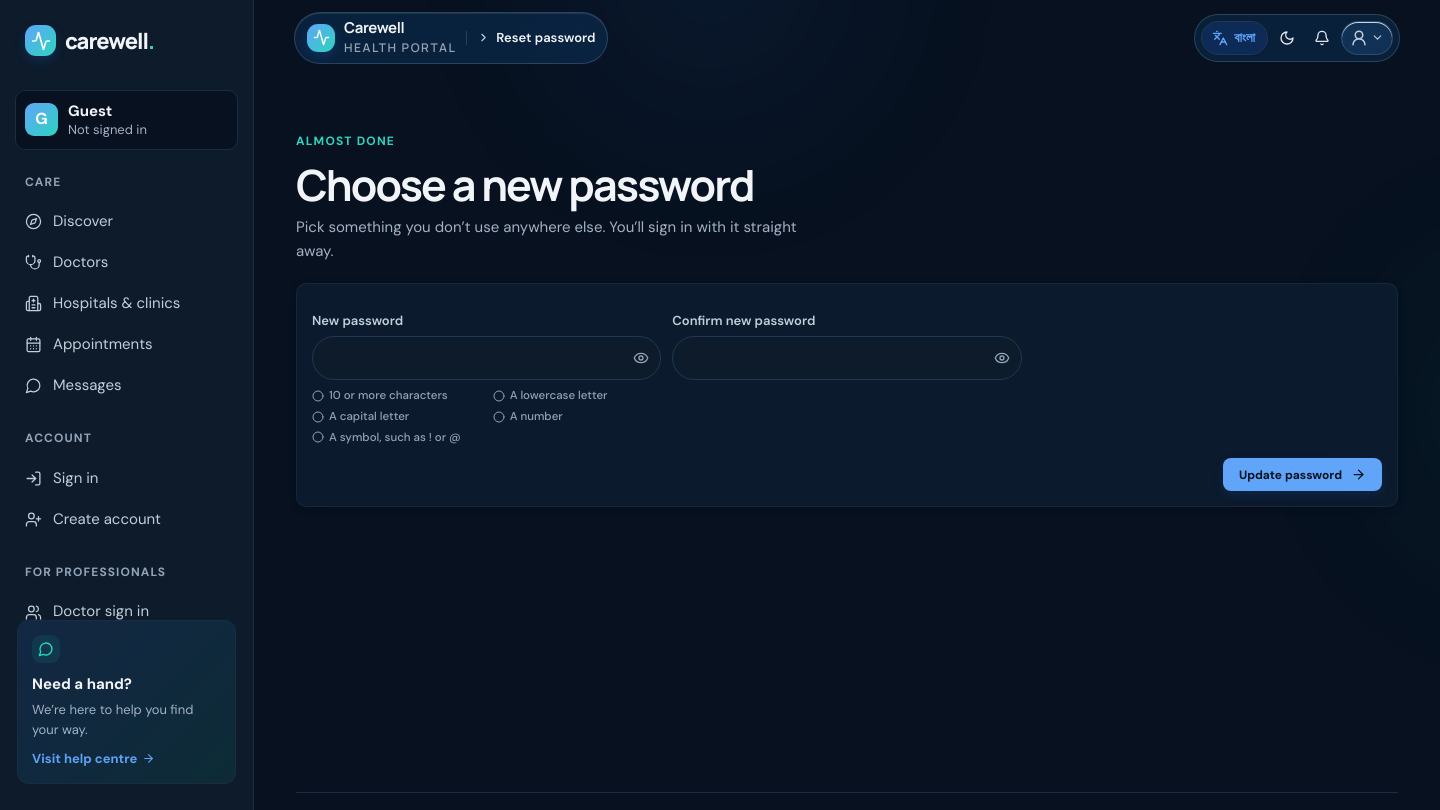
Test case: reset password screen › explains an expired link and offers a new one
This screenshot has width=1440, height=810.
Type "A-brand-new-one-1!" into the password field labelled "New password" at (487, 358), box [312,336,661,380]
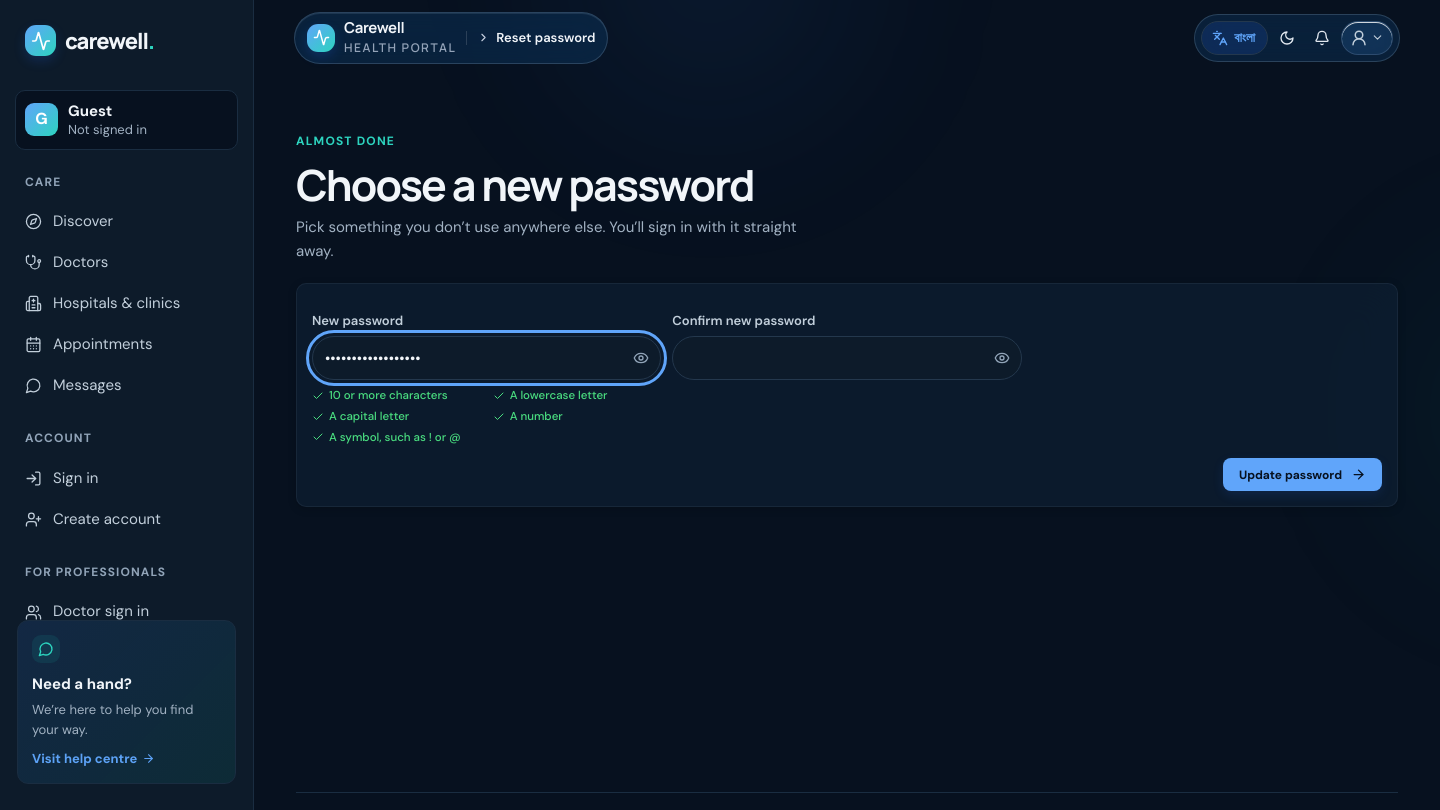
Type "A-brand-new-one-1!" into the password field labelled "Confirm new password" at (847, 358), box [672,336,1022,380]
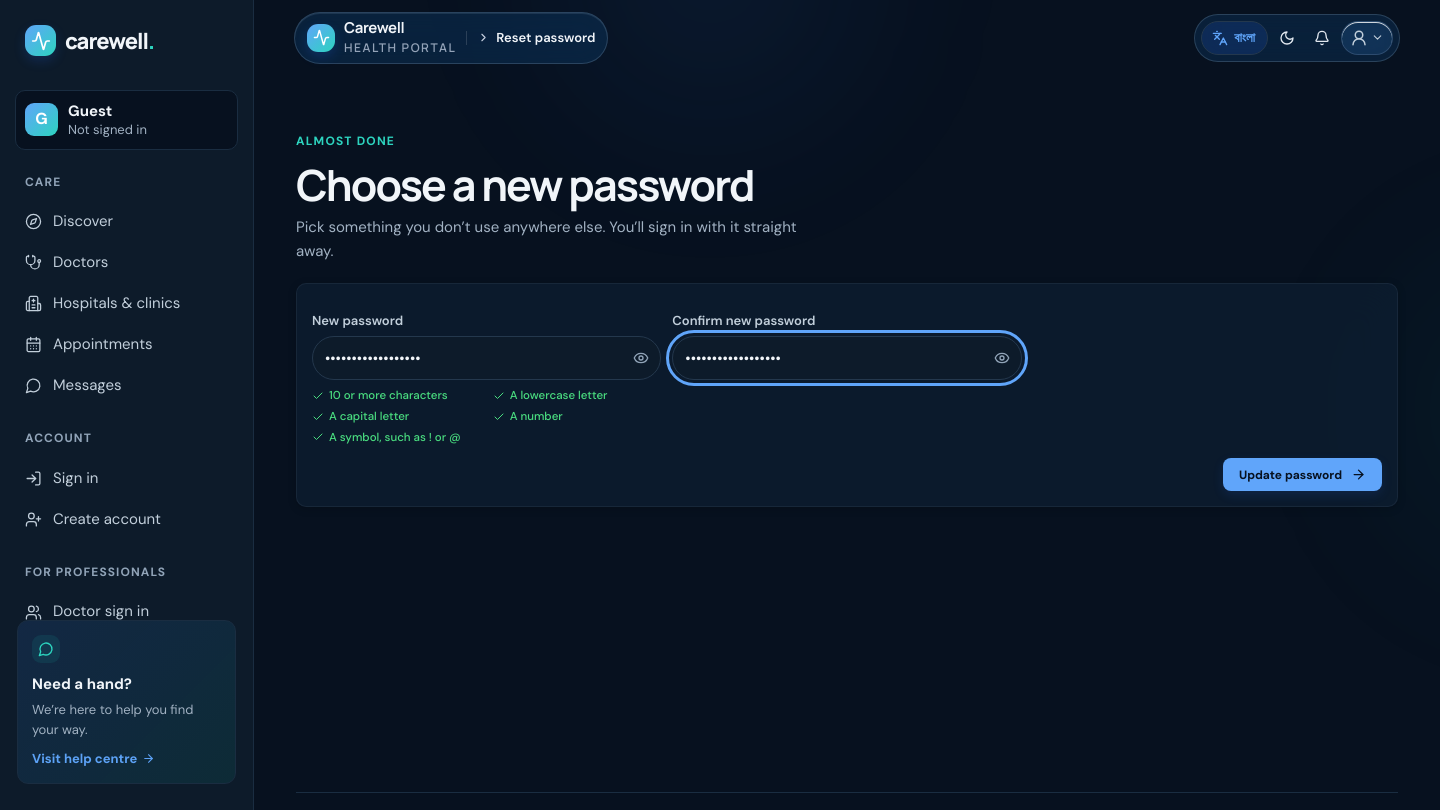
Click the button "Update password" at (1302, 475), box [1223,458,1382,491]
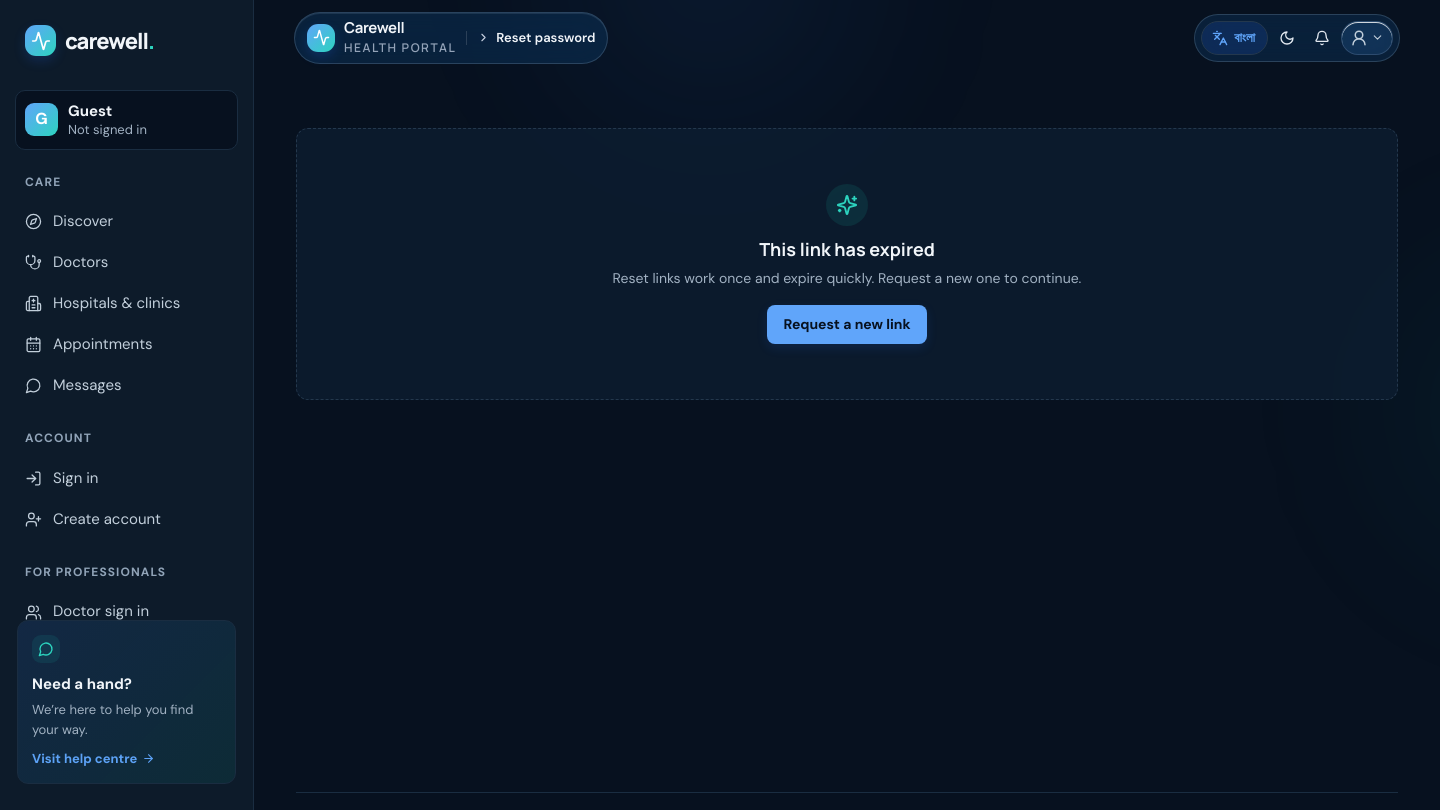
expect the heading "This link has expired" is shown: met, box [759,236,935,263]
